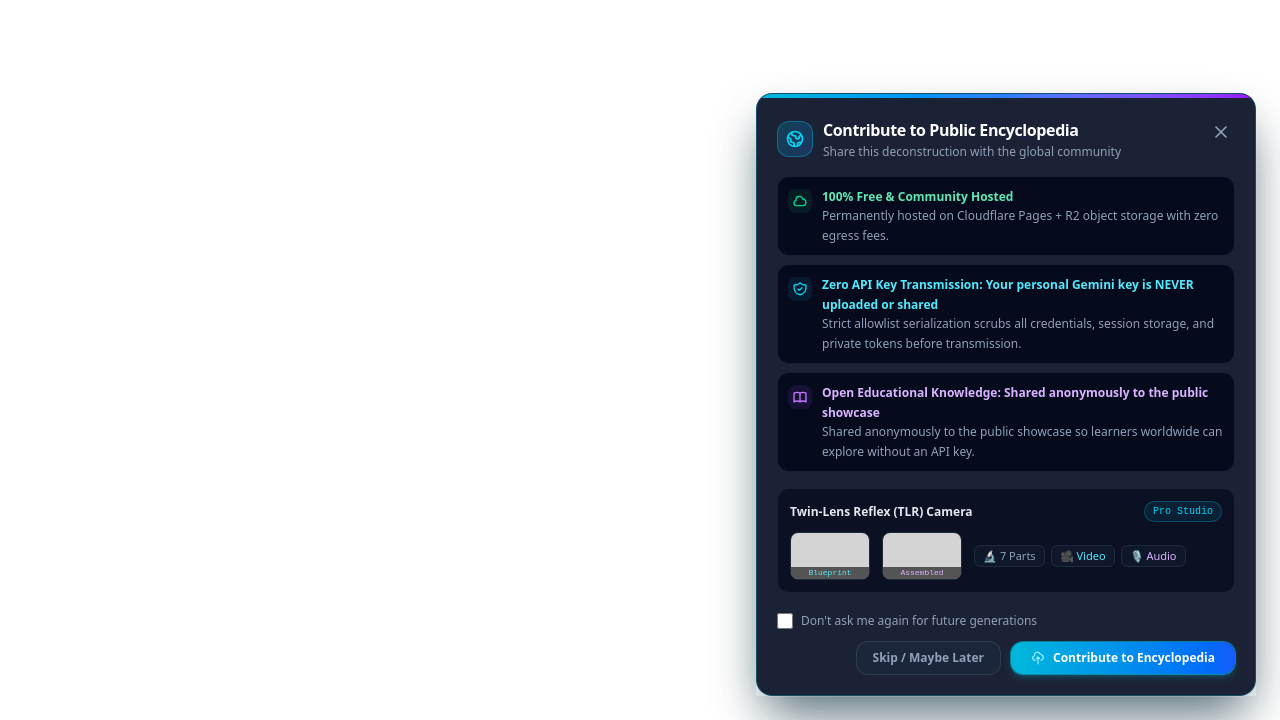
Challenger 2 - Empirical Adversarial Harness: Milestone 3 › Scope 4: Contribution UI Modal (components/CommunityContributeModal.tsx) › CH2-4.3 - Modal exhibits correct state machine transitions (idle -> uploading -> success)
// Click to contribute
Click the button "Contribute to Encyclopedia". click: (1123, 658)
box: top-left (1011, 642), bottom-right (1235, 674)
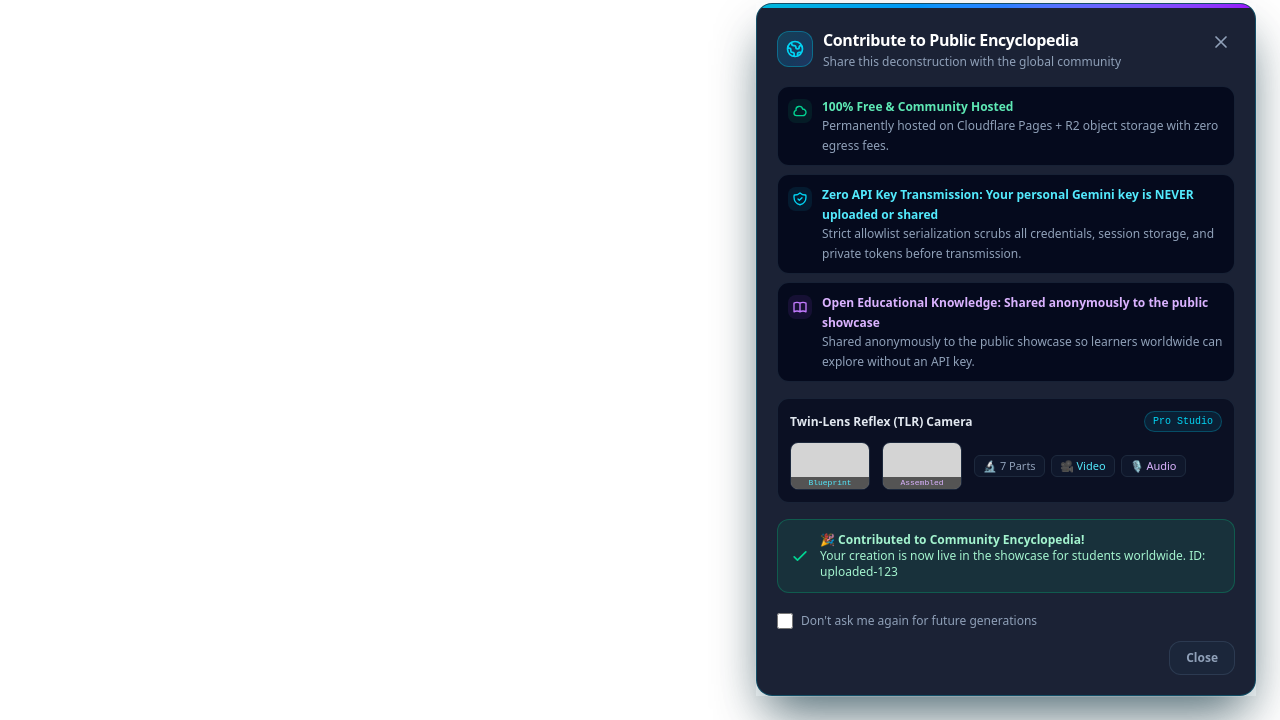
Expected: the text "🎉 Contributed to Community Encyclopedia!" is shown, top-left (820, 531), bottom-right (1084, 548)
